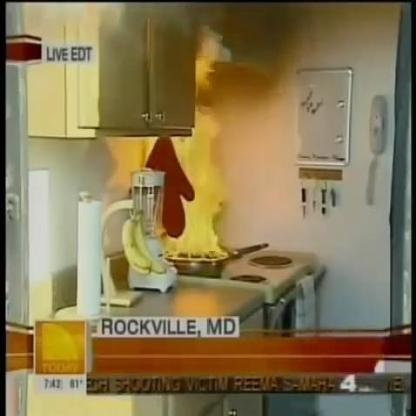fire: (151, 41, 234, 266)
